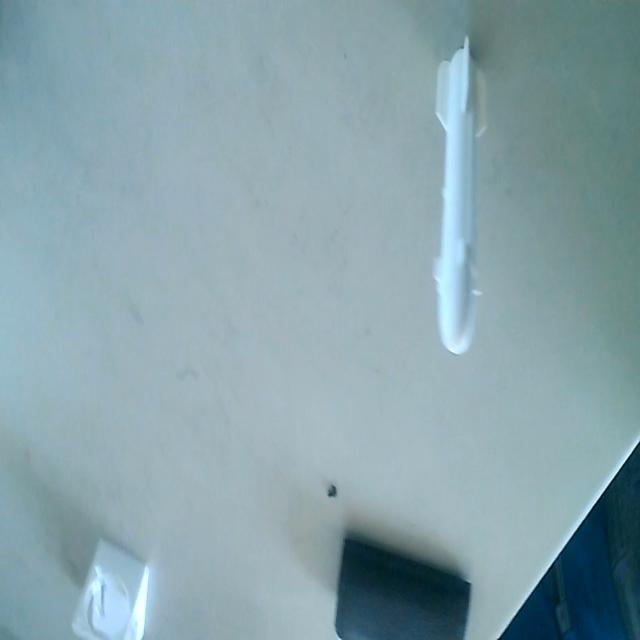Rocket: (431, 35, 490, 360)
